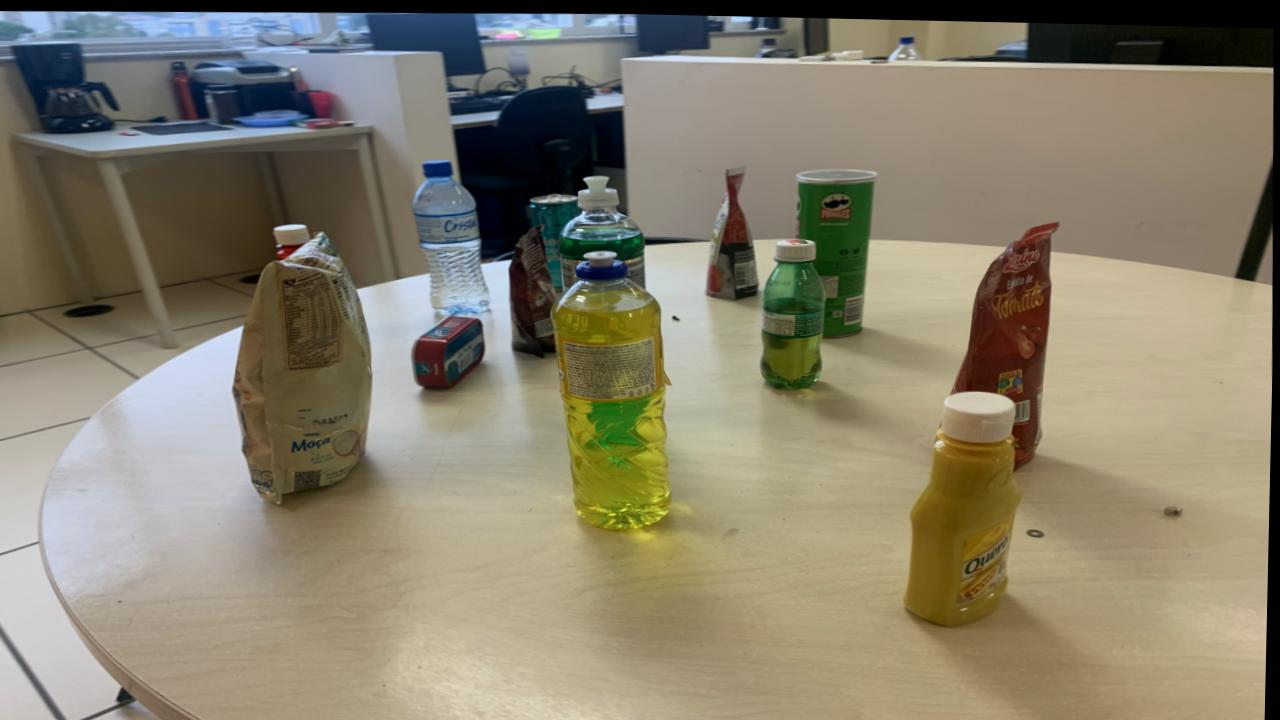Coffee-Pantry_Items: (511, 225, 559, 354)
Detergent-Cleanup_Items: (554, 247, 674, 527), (561, 172, 646, 287)
Flakes-Snacks: (234, 232, 374, 501)
Guarana-Drinks: (761, 236, 826, 384)
Ketchup-Pantry_Items: (276, 223, 311, 259)
Mustard-Pantry_Items: (906, 388, 1024, 621)
Pringles-Snacks: (799, 165, 879, 334)
Tea-Drinks: (531, 191, 581, 289)
Tomato_Sauce-Pantry_Items: (954, 217, 1059, 463), (706, 163, 759, 296)
Tuna_Can-Pantry_Items: (414, 315, 486, 386)
Water_Bottle-Drinks: (414, 159, 491, 313)
